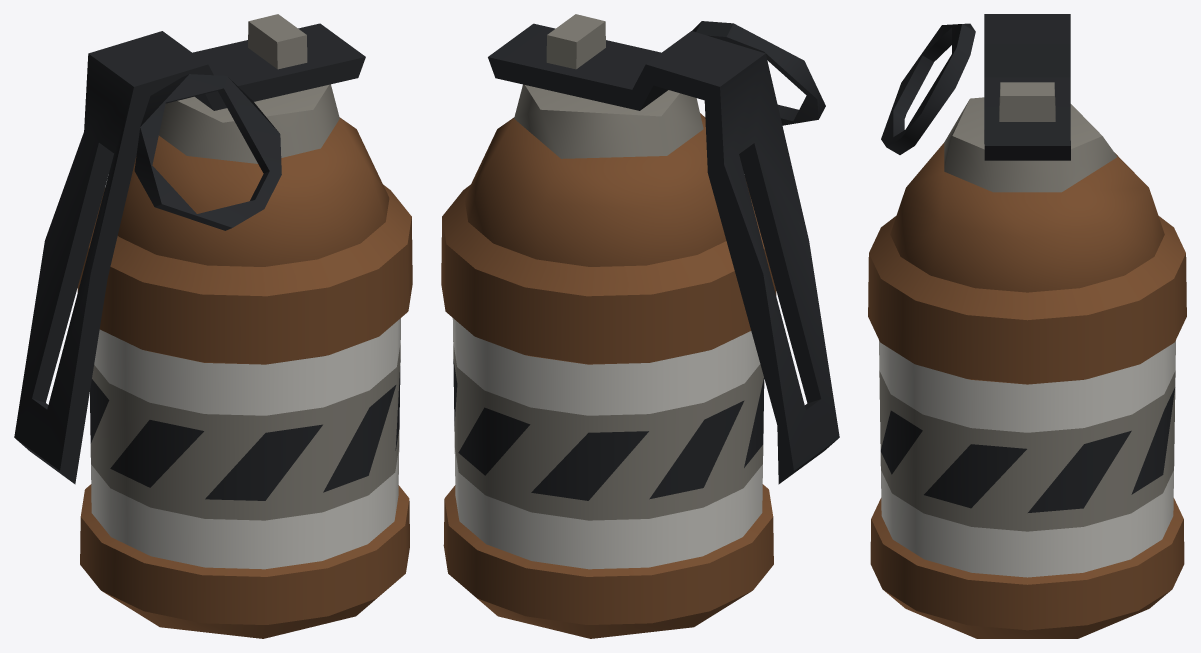
Rendered from cc0-fire-grenade-lod1.glb.
3 views of the same model, side by side, from view 1: azimuth 30°, elevation 25°; view 2: azimuth 150°, elevation 25°; view 3: azimuth 270°, elevation 25° (orthographic). The views are drawn at different scales.
Parts seen in each view (by area): view 1: part_0; view 2: part_0; view 3: part_0.
Part boxes in pixels (x1,y1,x2,y2): part_0: [14, 14, 412, 638]; part_0: [441, 14, 839, 638]; part_0: [868, 14, 1186, 638].
Size of the model in its own units: 0.5695 by 0.85 by 0.4706.
